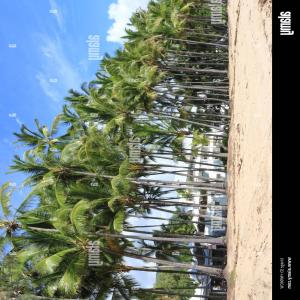palm tree: (1, 0, 230, 299)
